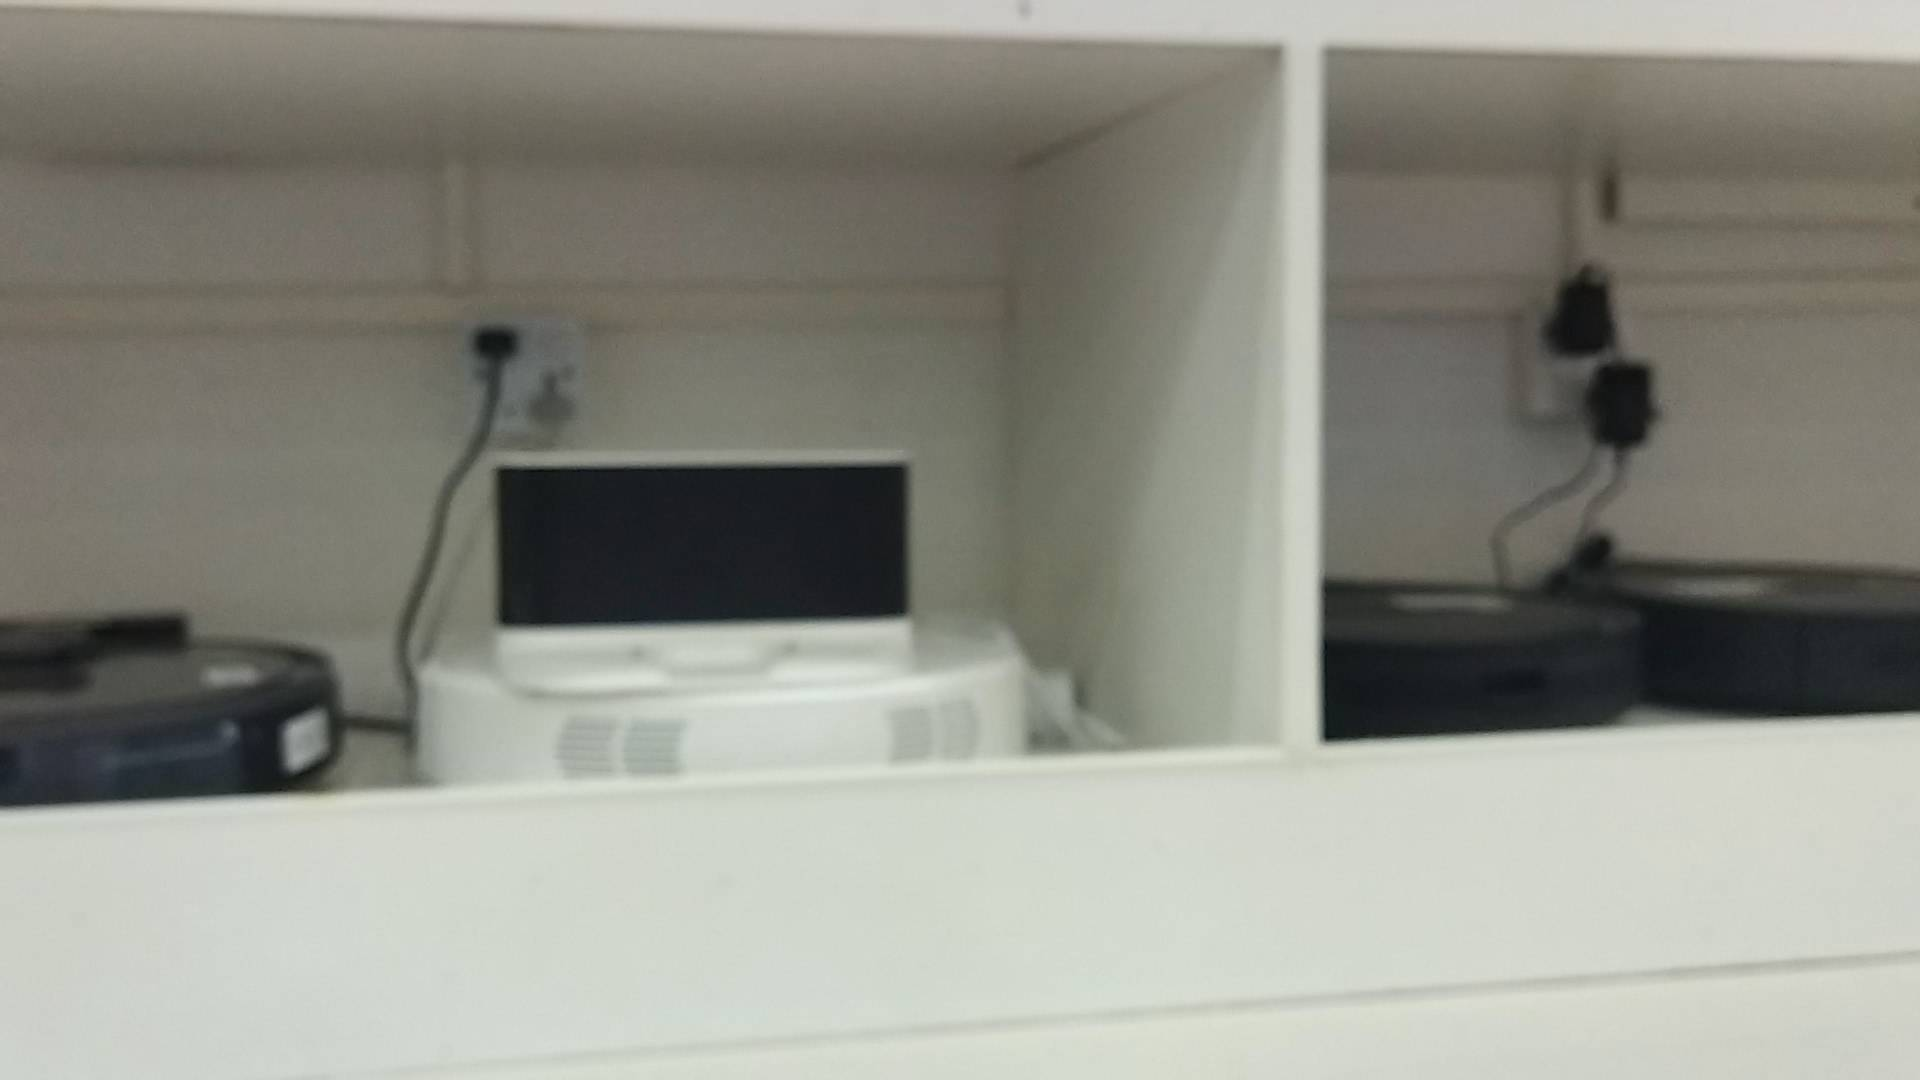recharge seat: (491, 447, 918, 698)
